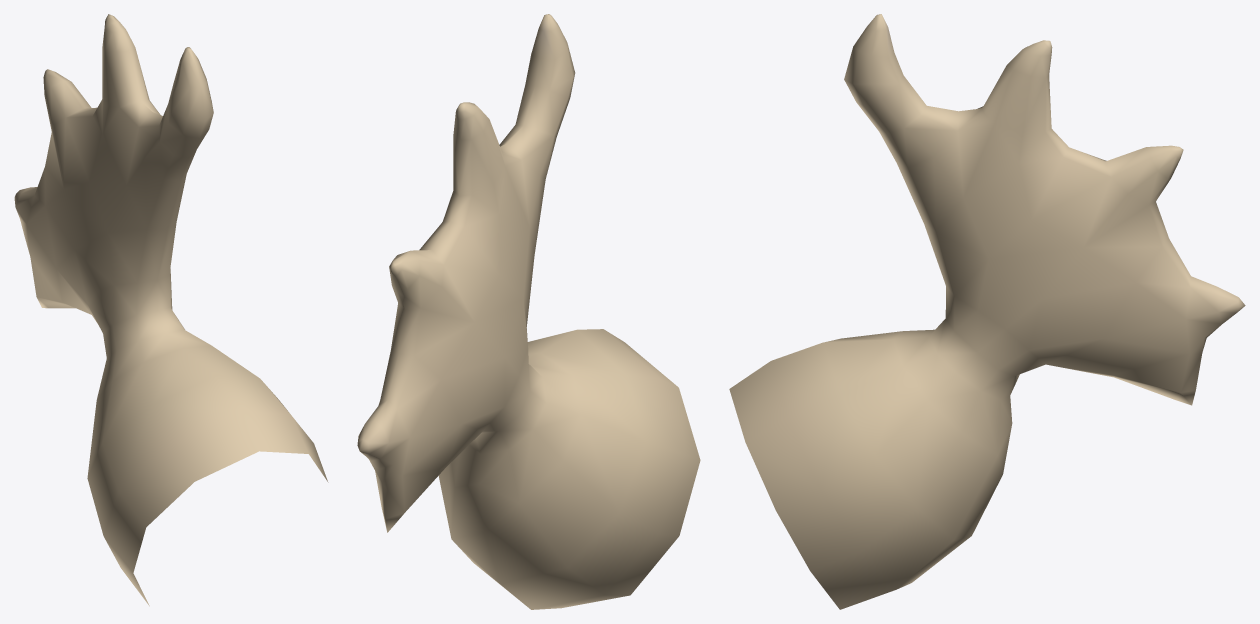
The model's file is S12_Aquatic04_L2_Tail.glb.
3 views of the same model, side by side, from view 1: azimuth 30°, elevation 25°; view 2: azimuth 150°, elevation 25°; view 3: azimuth 270°, elevation 25° (orthographic). The views are drawn at different scales.
Visible parts, largest first — view 1: S12_Aquatic04_L2_Tail__Tail_M__surface0__lod0; view 2: S12_Aquatic04_L2_Tail__Tail_M__surface0__lod0; view 3: S12_Aquatic04_L2_Tail__Tail_M__surface0__lod0.
Boxes of the visible parts, left/top/right/bottom form: S12_Aquatic04_L2_Tail__Tail_M__surface0__lod0: left=14, top=14, right=328, bottom=606; S12_Aquatic04_L2_Tail__Tail_M__surface0__lod0: left=357, top=14, right=700, bottom=609; S12_Aquatic04_L2_Tail__Tail_M__surface0__lod0: left=729, top=14, right=1245, bottom=609.
Size of the model in its own units: 25.71 by 69.56 by 55.28.
